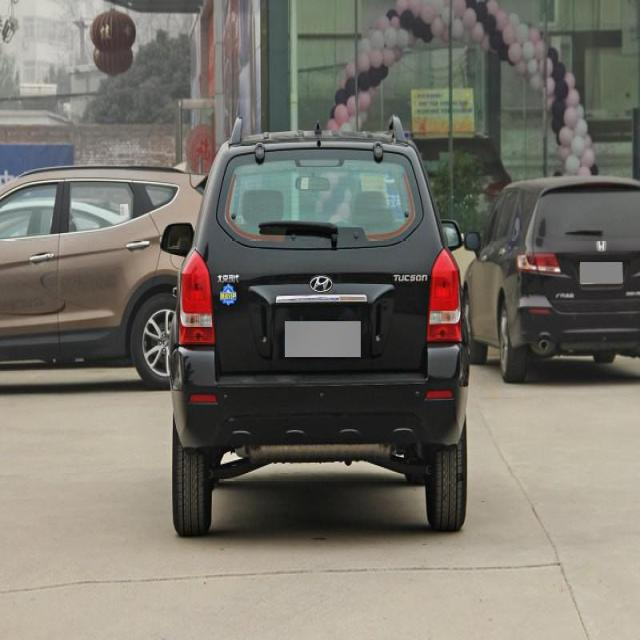back_glass: (212, 146, 426, 251)
back_left_side_light: (178, 247, 218, 349)
back_right_side_light: (425, 246, 467, 348)
front_left_side_mirror: (159, 218, 196, 260)
front_right_side_mirror: (438, 216, 465, 250)
rear_bumper: (168, 343, 466, 450)
wheel: (172, 407, 214, 537), (424, 416, 469, 531)
